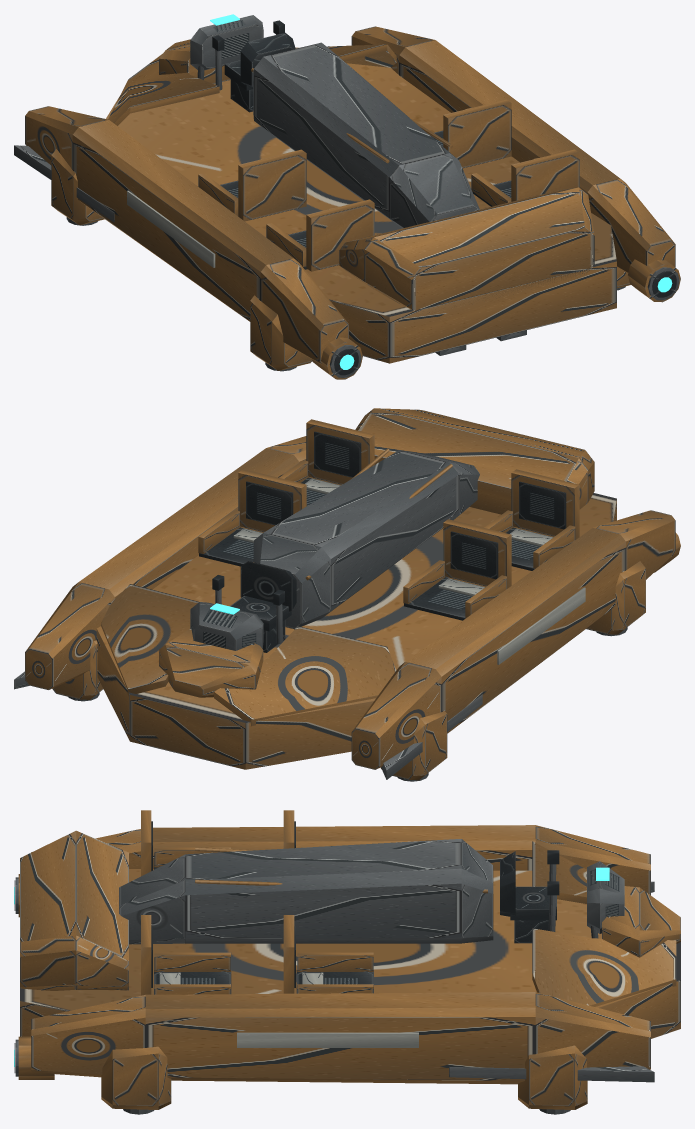
Rendered from hpc.glb.
3 renders of one model, top to bottom at view 1: azimuth 30°, elevation 25°; view 2: azimuth 150°, elevation 25°; view 3: azimuth 270°, elevation 25°, orthographic. The views are drawn at different scales.
Visible parts, largest first — view 1: STHPC_Hull; view 2: STHPC_Hull; view 3: STHPC_Hull.
Boxes of the visible parts, <box> form: STHPC_Hull: <box>14,14,680,379</box>; STHPC_Hull: <box>14,408,680,781</box>; STHPC_Hull: <box>14,810,680,1114</box>.
Bounding box in the file's own units: 6.02 × 2.51 × 8.88.
Materials: 5 (4 with a texture image).
